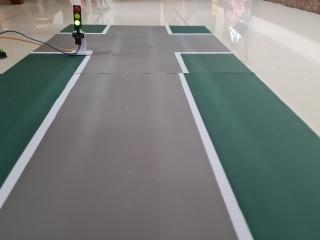green: (64, 1, 89, 33)
